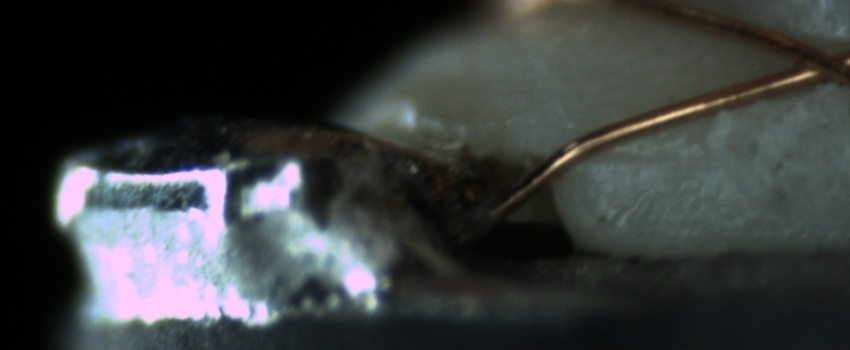CL: (764, 27, 850, 94)
DL: (590, 129, 730, 186)
